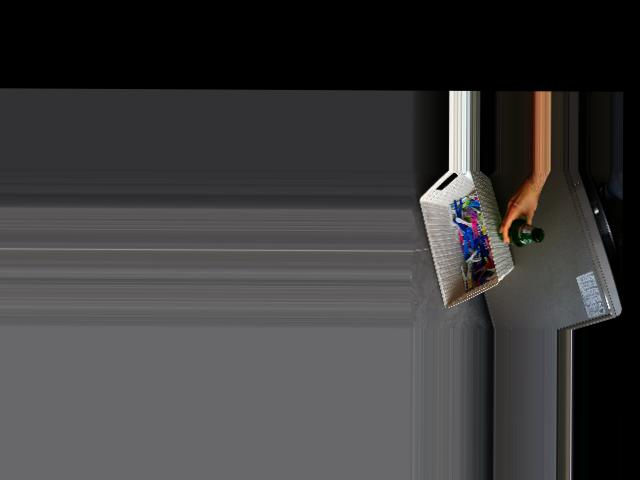beer: (498, 218, 544, 246)
